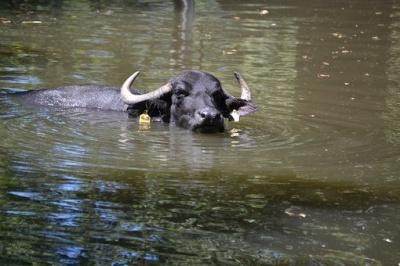buffalo: (120, 71, 260, 133)
